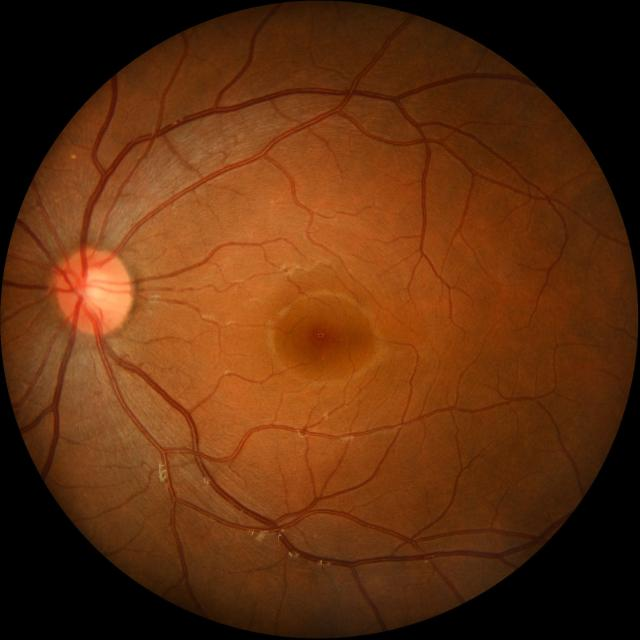OC: (81, 269, 112, 308)
OD: (55, 248, 132, 334)
